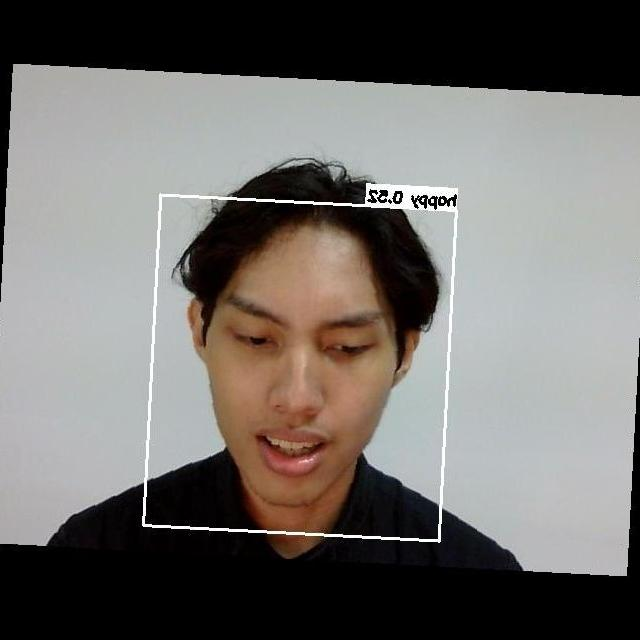Surprised: (195, 270, 407, 494)
